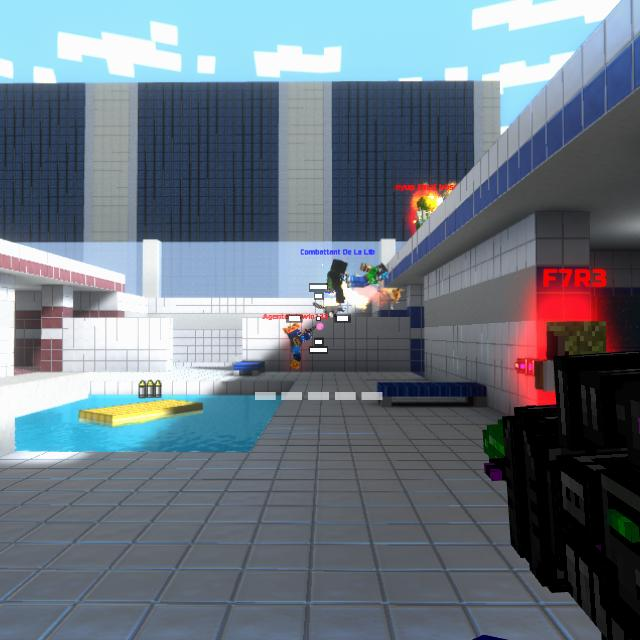Enemy: (532, 323, 627, 366), (285, 322, 310, 370), (413, 195, 432, 232)
